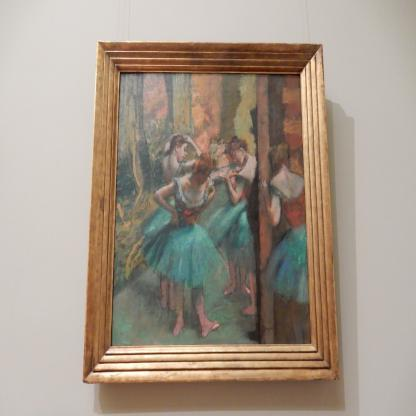Picture-frame: (83, 43, 347, 386)
